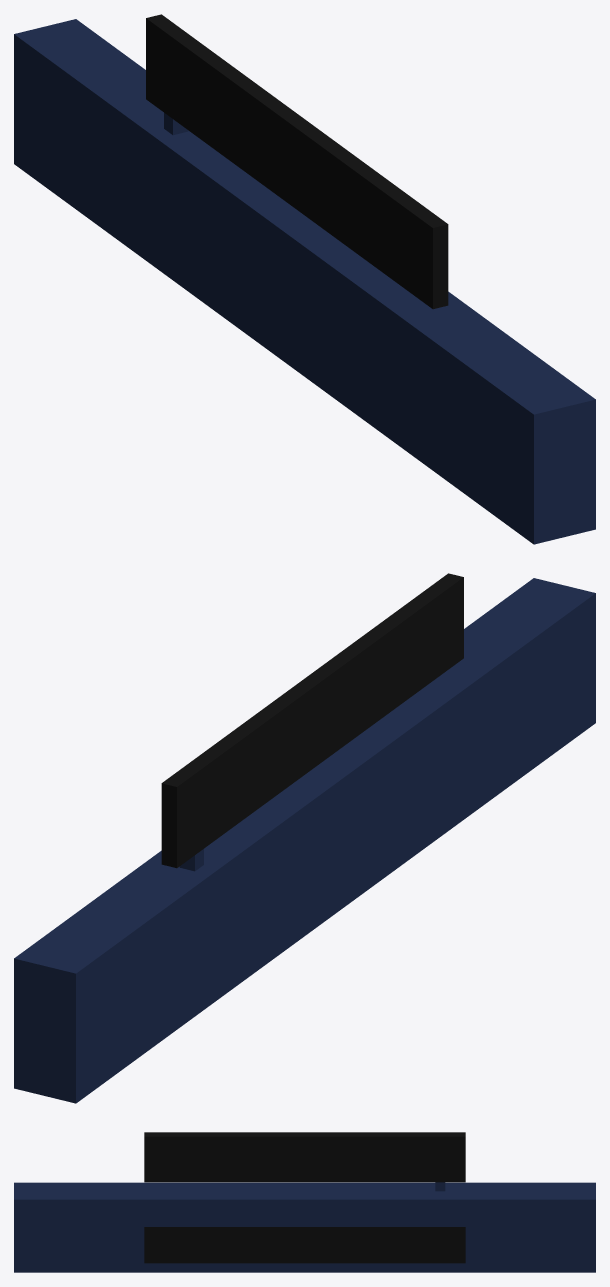
The model's file is minivan_front_bumper.glb.
The picture shows the model from 3 angles, top to bottom: view 1: azimuth 30°, elevation 25°; view 2: azimuth 150°, elevation 25°; view 3: azimuth 270°, elevation 25°; orthographic projection. The views are drawn at different scales.
Visible parts, largest first — view 1: body:compound; view 2: body:compound; view 3: body:compound.
Part boxes in pixels (x1,y1,x2,y2): body:compound: (14, 14, 595, 544); body:compound: (14, 573, 595, 1103); body:compound: (14, 1132, 595, 1272).
Size of the model in its own units: 0.125 by 0.4375 by 1.81.
